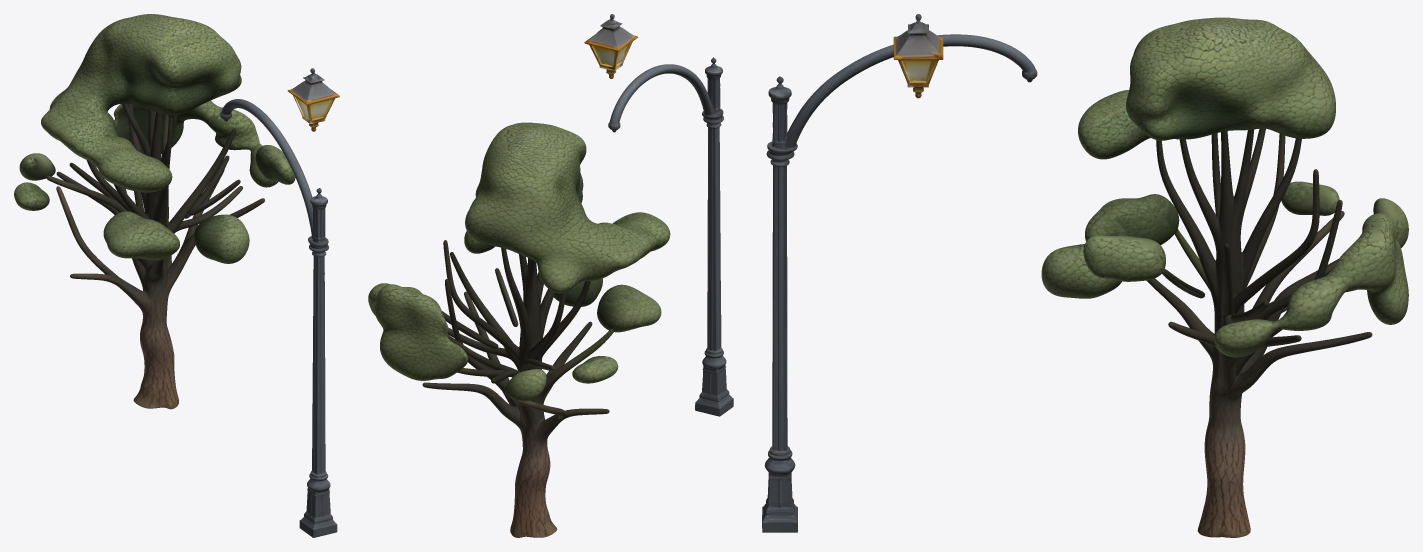
File: car-street-prop-v2.glb
The picture shows the model from 3 angles, left to right: view 1: azimuth 30°, elevation 25°; view 2: azimuth 150°, elevation 25°; view 3: azimuth 270°, elevation 25°; orthographic projection. The views are drawn at different scales.
Parts seen in each view (by area): view 1: node_0; view 2: node_0; view 3: node_0.
Boxes of the visible parts, x1=… form: node_0: x1=14, y1=14, x2=339, y2=537; node_0: x1=368, y1=14, x2=733, y2=537; node_0: x1=762, y1=14, x2=1408, y2=537.
Size of the model in its own units: 0.4963 by 0.8103 by 0.878.
Materials: 1 (1 with a texture image).
